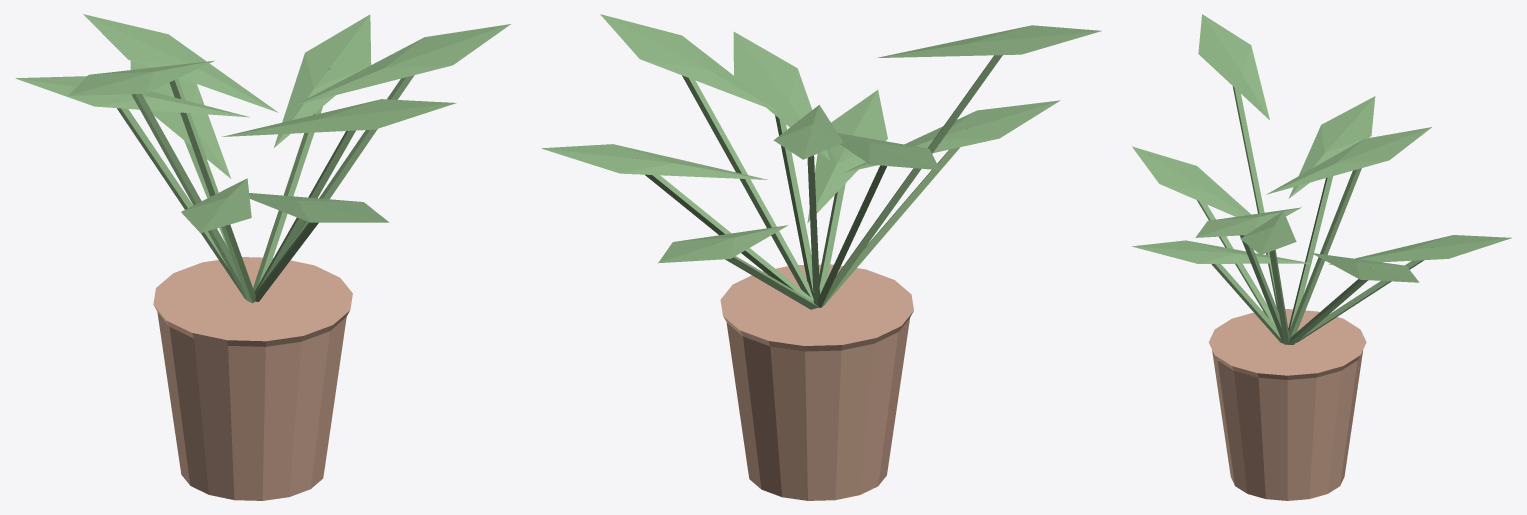
The model's file is plant.glb.
3 renders of one model, left to right at view 1: azimuth 30°, elevation 25°; view 2: azimuth 150°, elevation 25°; view 3: azimuth 270°, elevation 25°, orthographic. The views are drawn at different scales.
Visible parts, largest first — view 1: plant_plant, plant_pot; view 2: plant_plant, plant_pot; view 3: plant_plant, plant_pot.
Boxes of the visible parts, <box> form: plant_plant: <box>15,14,510,303</box>; plant_pot: <box>153,257,352,500</box>; plant_plant: <box>541,14,1101,309</box>; plant_pot: <box>720,264,913,500</box>; plant_plant: <box>1131,14,1511,344</box>; plant_pot: <box>1208,309,1366,500</box>.
Bounding box in the file's own units: 1.38 × 1.3 × 1.21.
